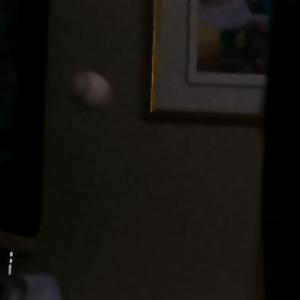ball: (67, 71, 111, 114)
